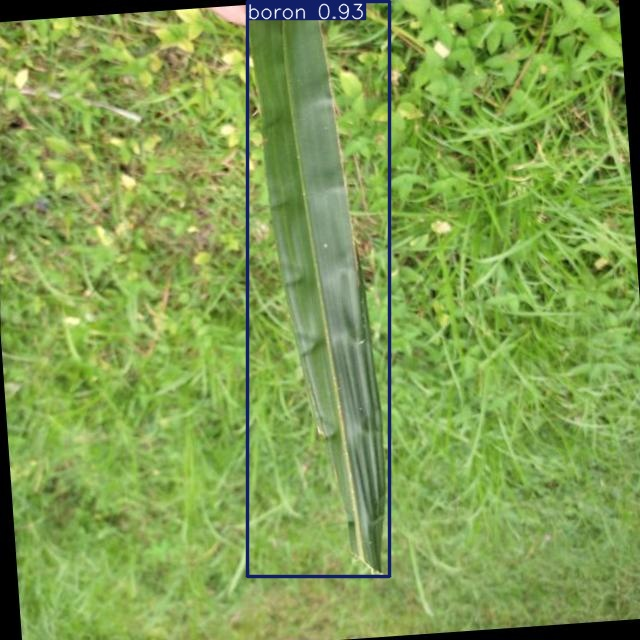nitrogen: (248, 1, 389, 577)
